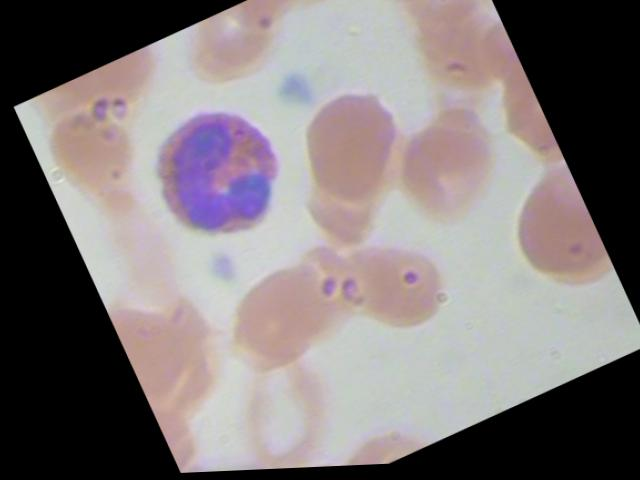Platelets: (271, 70, 319, 119), (196, 247, 241, 296)
Red Blood Cells: (278, 70, 424, 225), (378, 98, 517, 242), (20, 85, 159, 229), (483, 163, 613, 314), (324, 212, 462, 354), (213, 342, 353, 472), (212, 252, 345, 384), (178, 0, 308, 110), (324, 414, 433, 468), (228, 448, 353, 472), (263, 0, 355, 29), (361, 0, 468, 21)
White Blood Cells: (128, 87, 303, 271)
